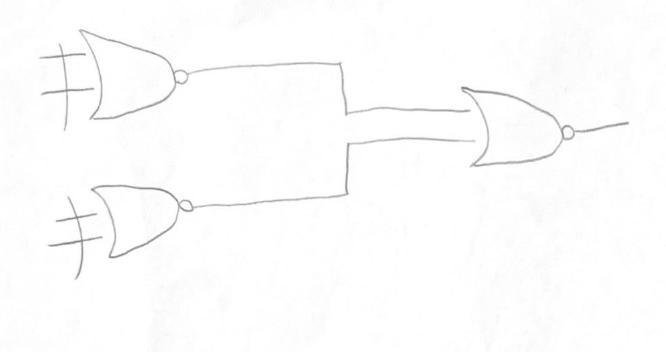NOR: (451, 65, 581, 186)
XNOR: (52, 175, 225, 284), (45, 19, 200, 134)
